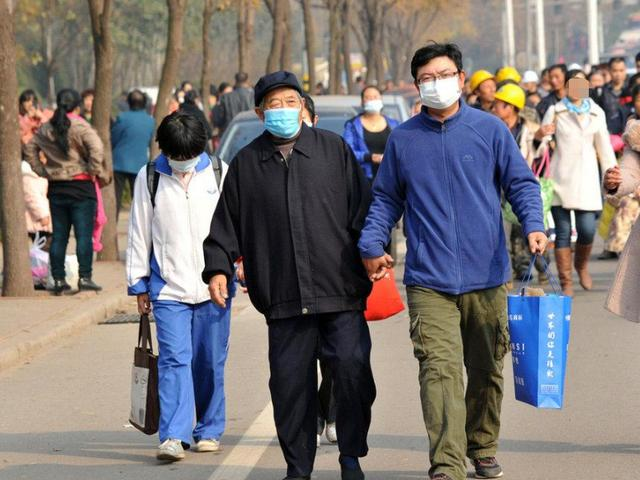mask: (415, 49, 464, 113), (259, 90, 303, 141)
